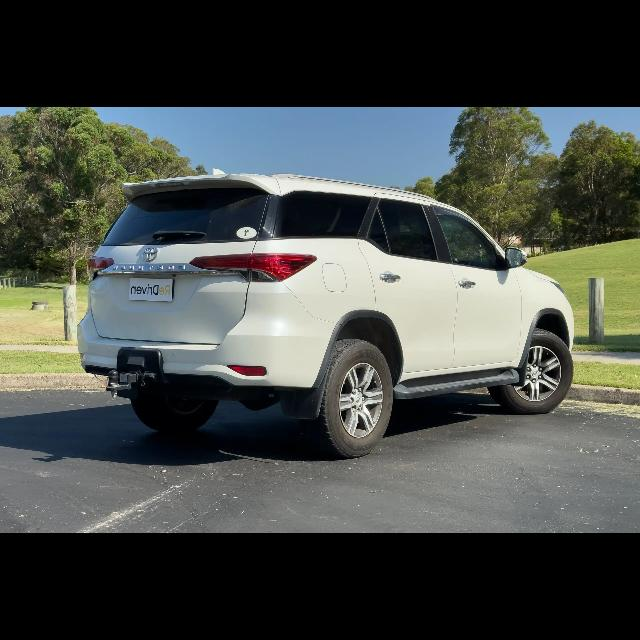vehicles: (77, 174, 579, 458)
